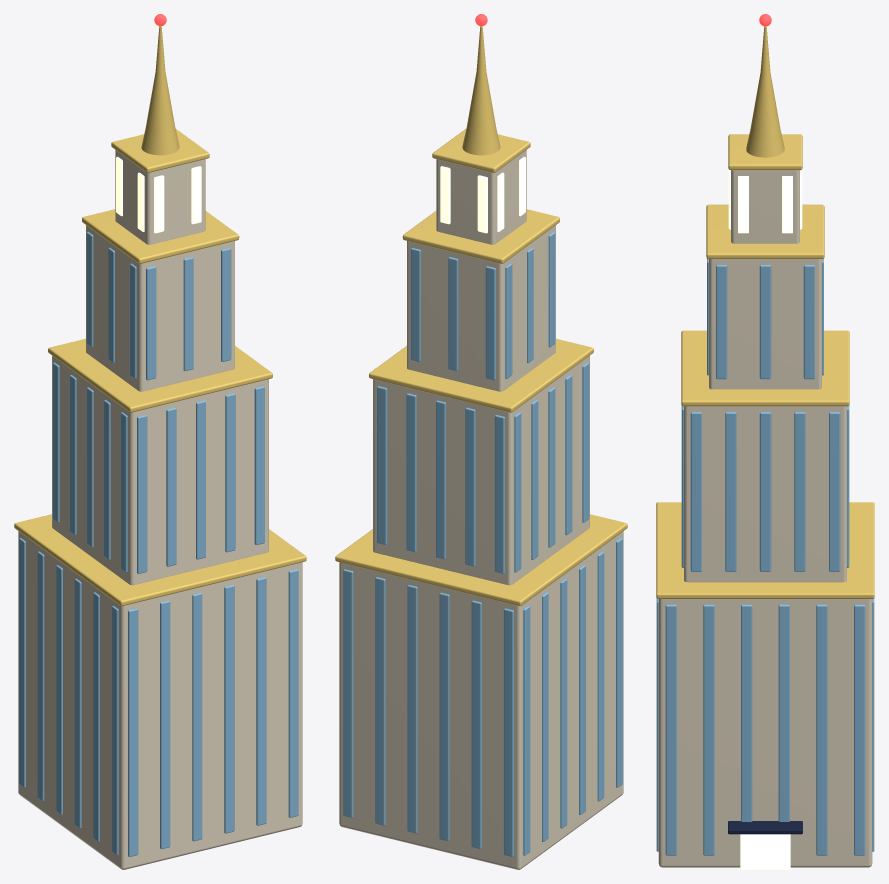
The model's file is skyscraper.glb.
3 views of the same model, side by side, from view 1: azimuth 30°, elevation 25°; view 2: azimuth 150°, elevation 25°; view 3: azimuth 270°, elevation 25° (orthographic).
Visible parts, largest first — view 1: skyscraper; view 2: skyscraper; view 3: skyscraper.
Part boxes in pixels (x1,y1,x2,y2): skyscraper: [14, 14, 306, 869]; skyscraper: [335, 14, 627, 869]; skyscraper: [656, 14, 874, 869].
Size of the model in its own units: 18.9 by 71.1 by 17.4.
1 material, 1 textured.
